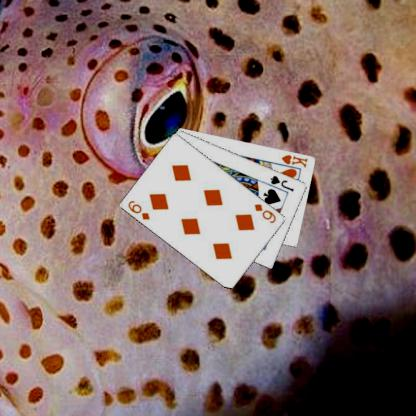6D: (252, 201, 277, 224), (126, 198, 151, 221)
JS: (268, 172, 295, 192)
KH: (278, 152, 308, 168)
